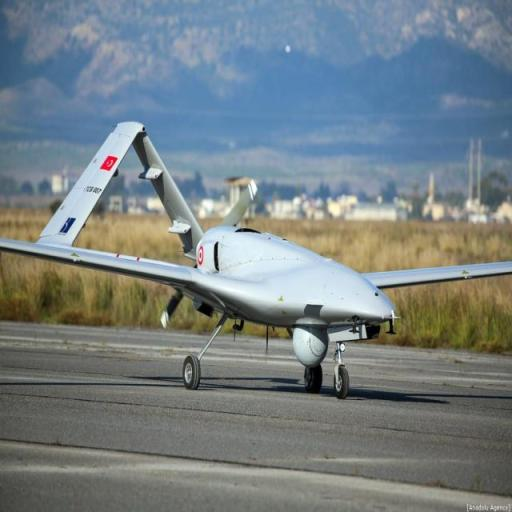uav: (1, 114, 512, 411)
